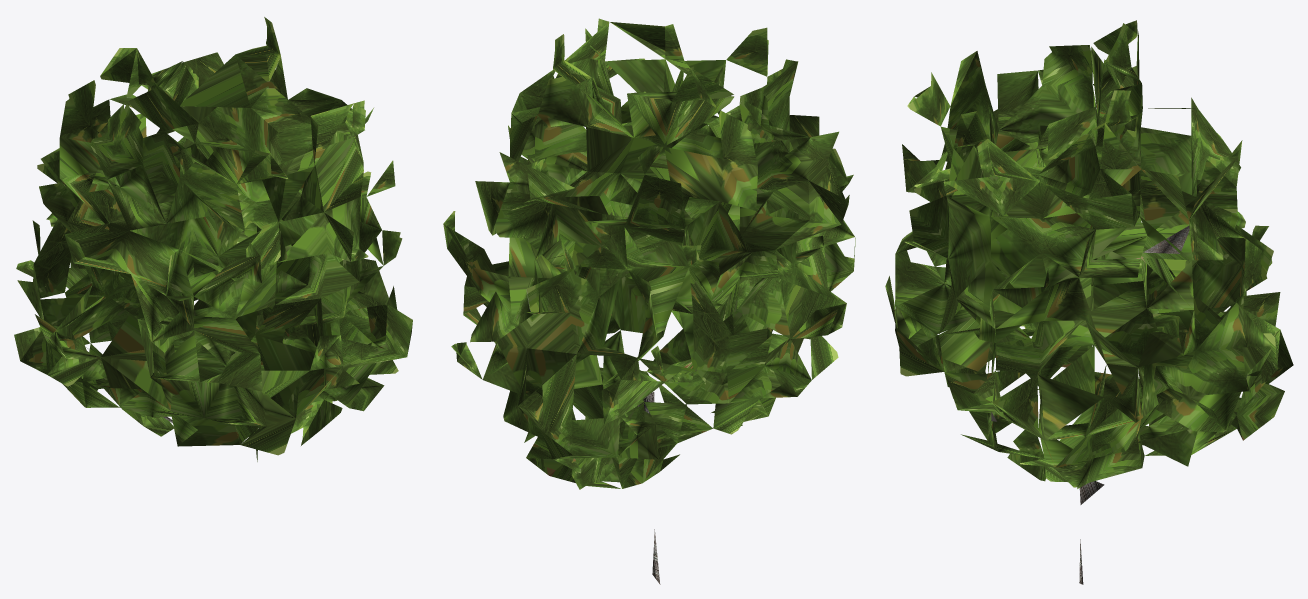
The model's file is maple.glb.
3 views of the same model, side by side, from view 1: azimuth 30°, elevation 25°; view 2: azimuth 150°, elevation 25°; view 3: azimuth 270°, elevation 25° (orthographic). The views are drawn at different scales.
Size of the model in its own units: 216 by 317 by 217.
2 materials, 2 textured.
